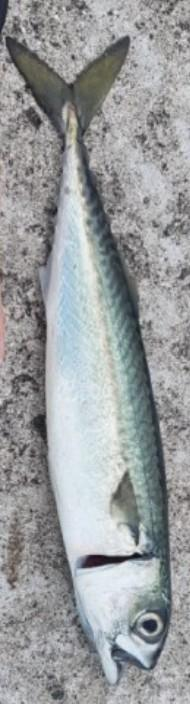fish: (8, 37, 170, 683)
